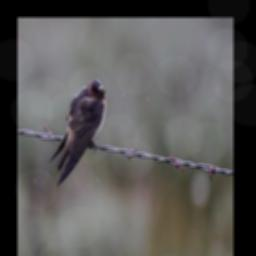Swallow: (47, 76, 107, 187)
